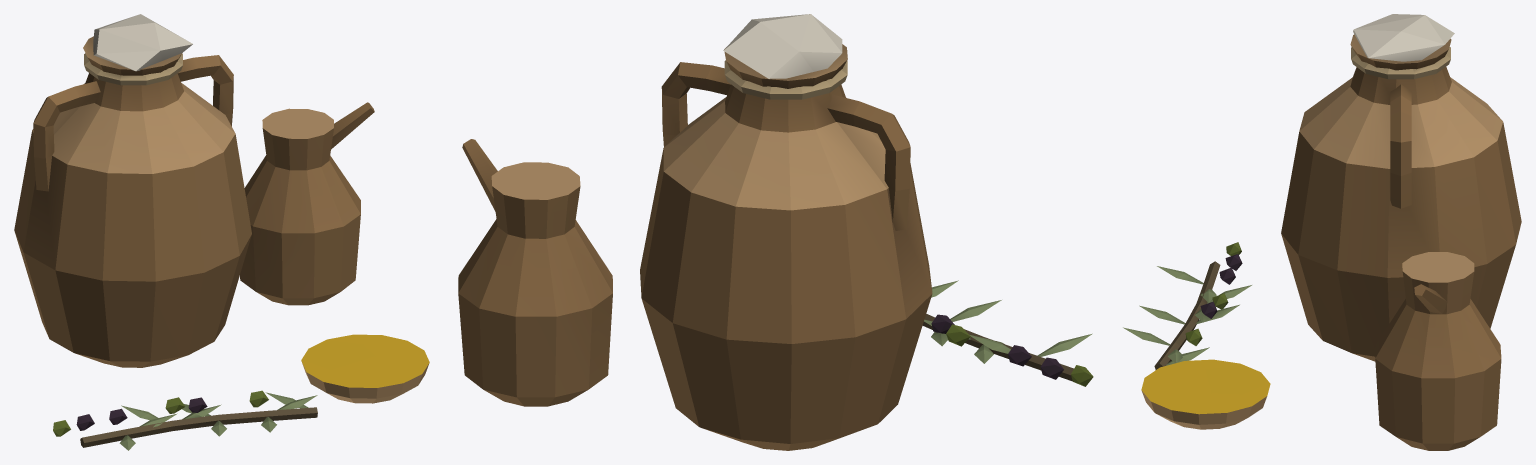
3 renders of one model, left to right at view 1: azimuth 30°, elevation 25°; view 2: azimuth 150°, elevation 25°; view 3: azimuth 270°, elevation 25°, orthographic. The views are drawn at different scales.
Parts seen in each view (by area): view 1: base; view 2: base; view 3: base.
Boxes of the visible parts, left/top/right/bottom form: base: left=14, top=14, right=429, bottom=450; base: left=458, top=14, right=1093, bottom=450; base: left=1123, top=14, right=1521, bottom=450.
Bounding box in the file's own units: 0.5209 × 0.3852 × 0.4299.
